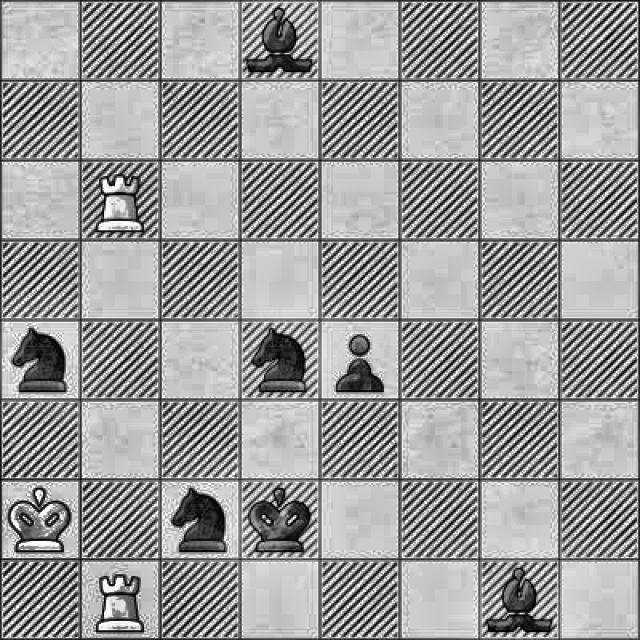Black Knight: (248, 316, 310, 396), (166, 485, 232, 557), (6, 323, 68, 397)
black bishop: (242, 4, 314, 80), (484, 566, 555, 640)
black king: (247, 482, 315, 557)
black pawn: (329, 324, 388, 398)
white king: (9, 484, 72, 554)
white rook: (94, 564, 149, 638), (90, 170, 146, 236)
